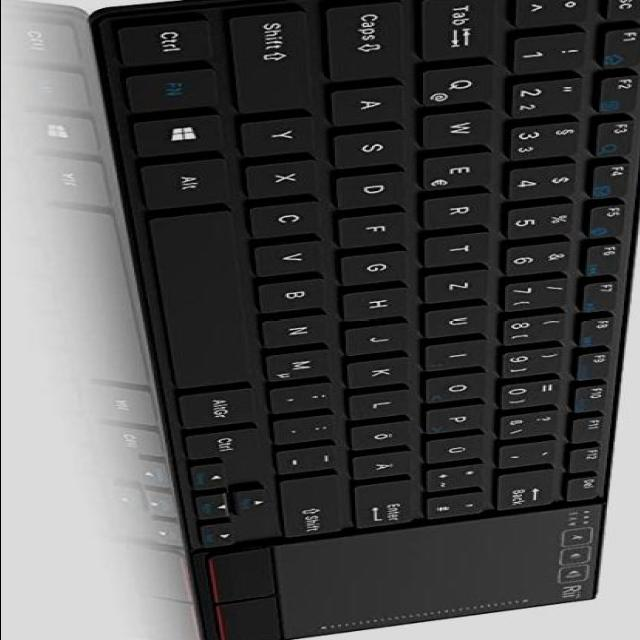0: (501, 376, 567, 408)
1: (515, 30, 593, 72)
2: (512, 75, 590, 116)
3: (510, 118, 586, 158)
4: (511, 161, 583, 198)
5: (507, 201, 581, 238)
6: (506, 240, 578, 276)
7: (504, 276, 575, 308)
8: (503, 310, 574, 342)
9: (503, 343, 571, 375)
a: (333, 84, 412, 125)
accent: (501, 438, 566, 467)
ae: (356, 450, 421, 478)
alt-left: (142, 156, 235, 208)
altgr-right: (181, 386, 263, 427)
b: (262, 275, 334, 312)
c: (252, 200, 326, 238)
caret: (516, 0, 595, 26)
comma: (274, 380, 344, 412)
d: (337, 169, 413, 209)
del: (500, 468, 565, 509)
e: (424, 150, 500, 188)
enter: (357, 480, 427, 528)
f: (340, 211, 414, 247)
g: (343, 248, 414, 284)
h: (345, 285, 416, 319)
hash: (428, 490, 492, 519)
i: (428, 338, 496, 370)
j: (348, 321, 418, 354)
k: (350, 355, 418, 387)
keyboard: (85, 0, 640, 640)
l: (353, 388, 418, 418)
m: (268, 347, 339, 380)
minus: (279, 442, 345, 472)
n: (264, 313, 340, 346)
o: (429, 370, 495, 402)
oe: (353, 419, 419, 449)
p: (429, 403, 495, 433)
plus: (429, 462, 495, 490)
point: (277, 413, 343, 443)
q: (421, 62, 503, 105)
r: (426, 192, 498, 229)
s: (334, 127, 413, 168)
shift-left: (229, 8, 319, 112)
shift-lock: (325, 0, 410, 82)
shift-right: (282, 473, 350, 537)
space: (152, 208, 254, 384)
ss: (501, 407, 566, 437)
strg-left: (118, 15, 218, 65)
strg-right: (188, 425, 260, 458)
t: (428, 232, 498, 266)
tab: (420, 0, 504, 60)
u: (427, 303, 497, 336)
ue: (429, 434, 495, 462)
v: (257, 239, 331, 276)
w: (424, 108, 503, 146)
x: (247, 158, 325, 198)
y: (243, 115, 322, 155)
z: (427, 268, 497, 302)
